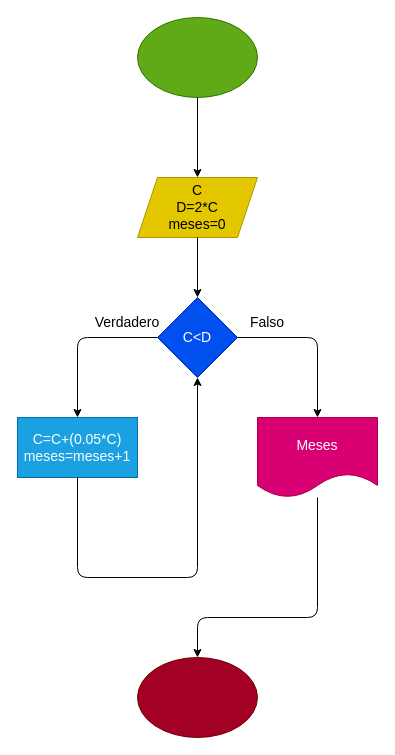
Image size: 395x755. Some labels were removed from this diagram. Each missing label, with the centre of its shape:
"FIN" goes at [197,697].
"INICIO" goes at [197,57].
